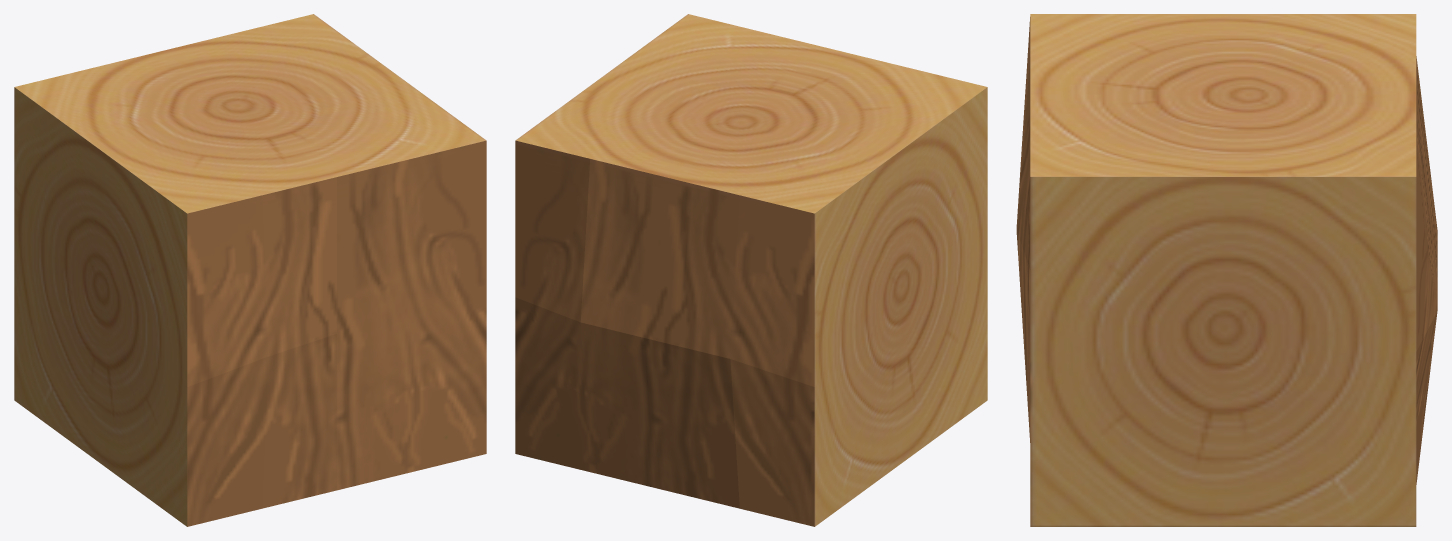
File: TreeBothSides.fbx
3 renders of one model, left to right at view 1: azimuth 30°, elevation 25°; view 2: azimuth 150°, elevation 25°; view 3: azimuth 270°, elevation 25°, orthographic. The views are drawn at different scales.
Visible parts, largest first — view 1: TreeFrontBack; view 2: TreeFrontBack; view 3: TreeFrontBack.
Part boxes in pixels (x1,y1,x2,y2): TreeFrontBack: (14, 14, 486, 526); TreeFrontBack: (515, 14, 987, 526); TreeFrontBack: (1016, 14, 1437, 526).
Bounding box in the file's own units: 200 × 200 × 218.
1 material, 1 textured.
